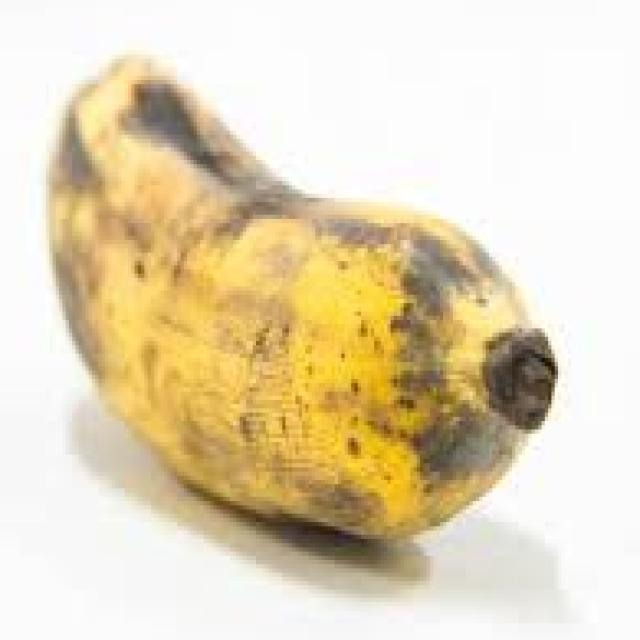inorganic: (36, 39, 574, 560)
